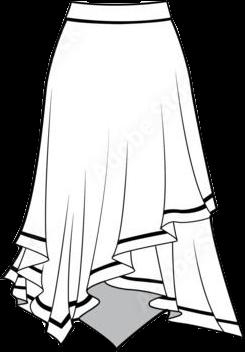Hemline: (12, 206, 217, 347), (105, 282, 244, 338)
Waistline: (64, 15, 172, 24), (70, 0, 166, 6)
